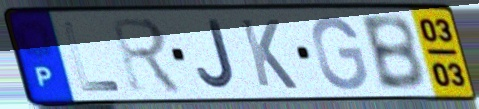B: (356, 12, 429, 93)
G: (308, 13, 370, 92)
J: (194, 18, 239, 92)
K: (236, 16, 301, 92)
L: (60, 19, 124, 94)
R: (107, 16, 188, 96)
